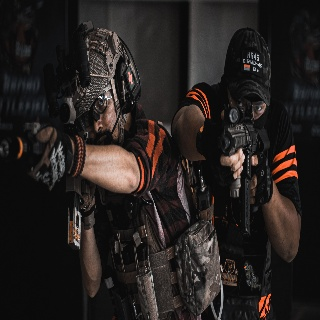rifle: (4, 95, 97, 249), (216, 94, 275, 233)
